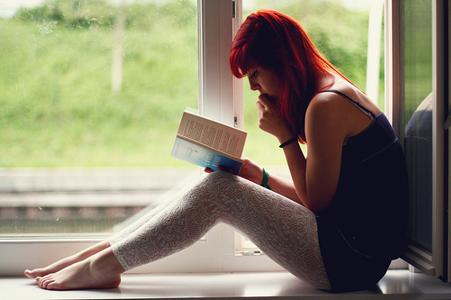person: (23, 12, 410, 295)
